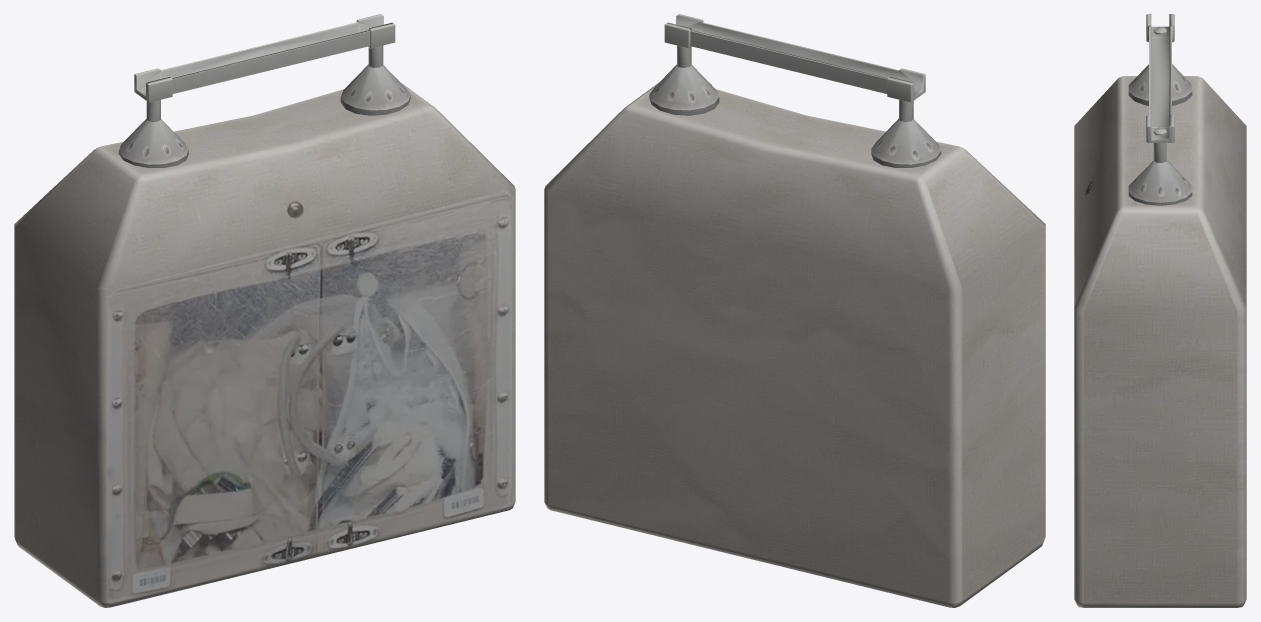
File: Crew_Lock_Bag.glb
The picture shows the model from 3 angles, left to right: view 1: azimuth 30°, elevation 25°; view 2: azimuth 150°, elevation 25°; view 3: azimuth 270°, elevation 25°; orthographic projection. The views are drawn at different scales.
Parts seen in each view (by area): view 1: crewlockba; view 2: crewlockba; view 3: crewlockba.
Part boxes in pixels (<box>): crewlockba: <box>14,14,515,607</box>; crewlockba: <box>544,14,1045,607</box>; crewlockba: <box>1074,14,1246,607</box>.
Bounding box in the file's own units: 14.05 × 15.46 × 5.41.
1 material, 1 textured.
